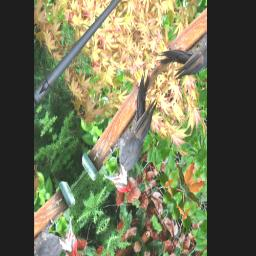Woodpecker: (85, 68, 181, 205)
